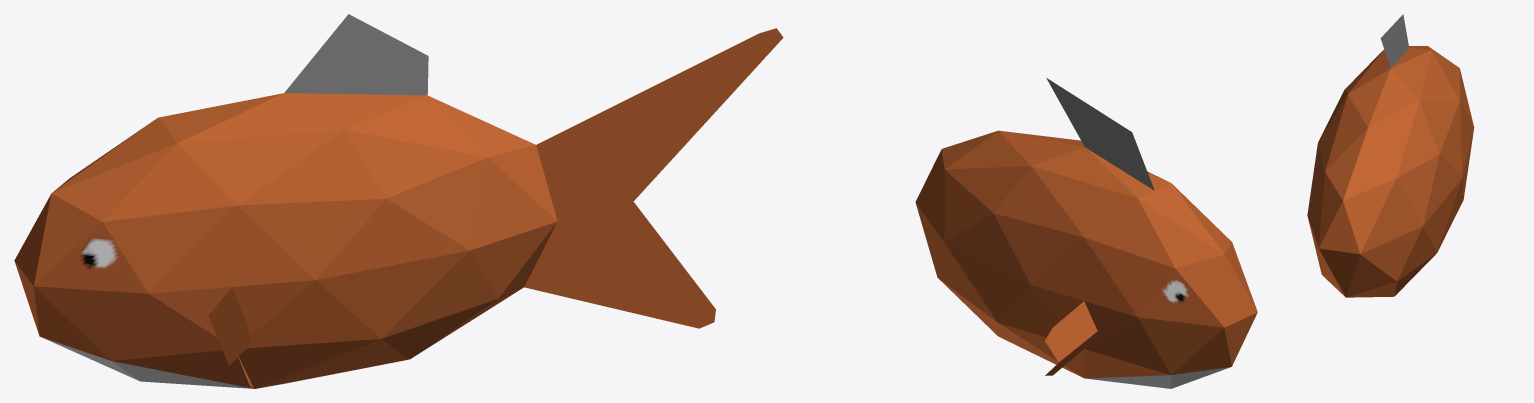
The model's file is fish.gltf.
3 views of the same model, side by side, from view 1: azimuth 30°, elevation 25°; view 2: azimuth 150°, elevation 25°; view 3: azimuth 270°, elevation 25° (orthographic). The views are drawn at different scales.
Parts seen in each view (by area): view 1: mesh_352; view 2: mesh_352; view 3: mesh_352.
Boxes of the visible parts, box(x1,y1,x2,y2) form: mesh_352: box(14, 14, 783, 388); mesh_352: box(915, 78, 1257, 388); mesh_352: box(1307, 14, 1474, 297).
Bounding box in the file's own units: 1.16 × 0.6045 × 0.5009.
1 material, 1 textured.
